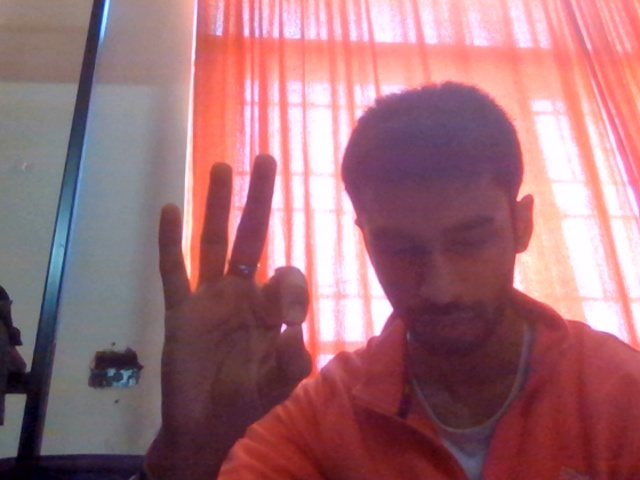F: (148, 138, 324, 480)
